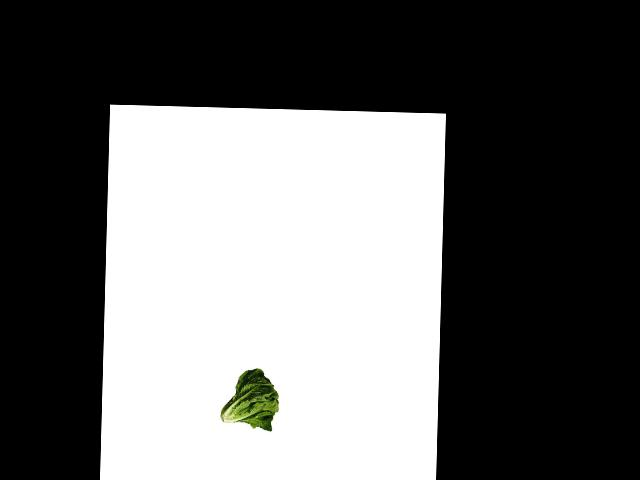lettuce: (216, 366, 282, 432)
